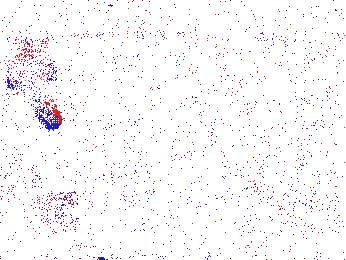flame jellyfish: (4, 48, 63, 132), (161, 179, 229, 239), (1, 167, 77, 217)
